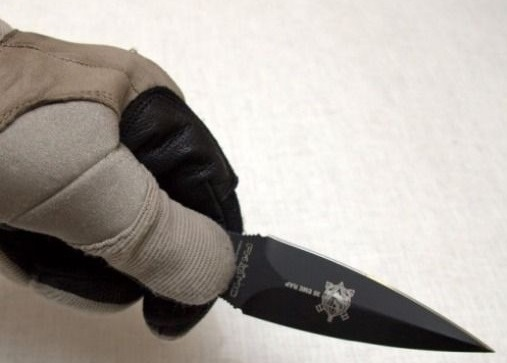knife: (178, 221, 498, 359)
